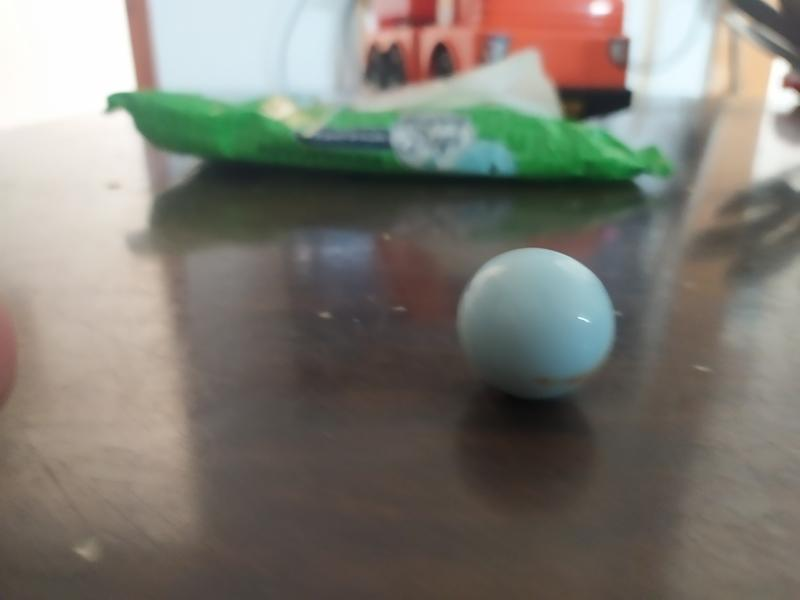Warning: (450, 242, 623, 408)
